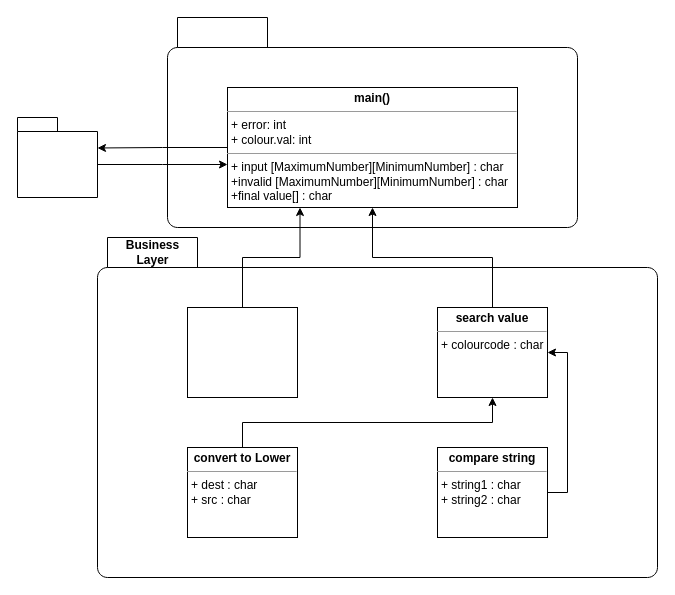
This 675x595 diagram has some shape labels left out. Each missing label, with the box of its shape:
Application Layer: (166, 16, 578, 228)
seperate No + sep : char + val : Long: (186, 306, 298, 398)
USER: (16, 116, 98, 198)
